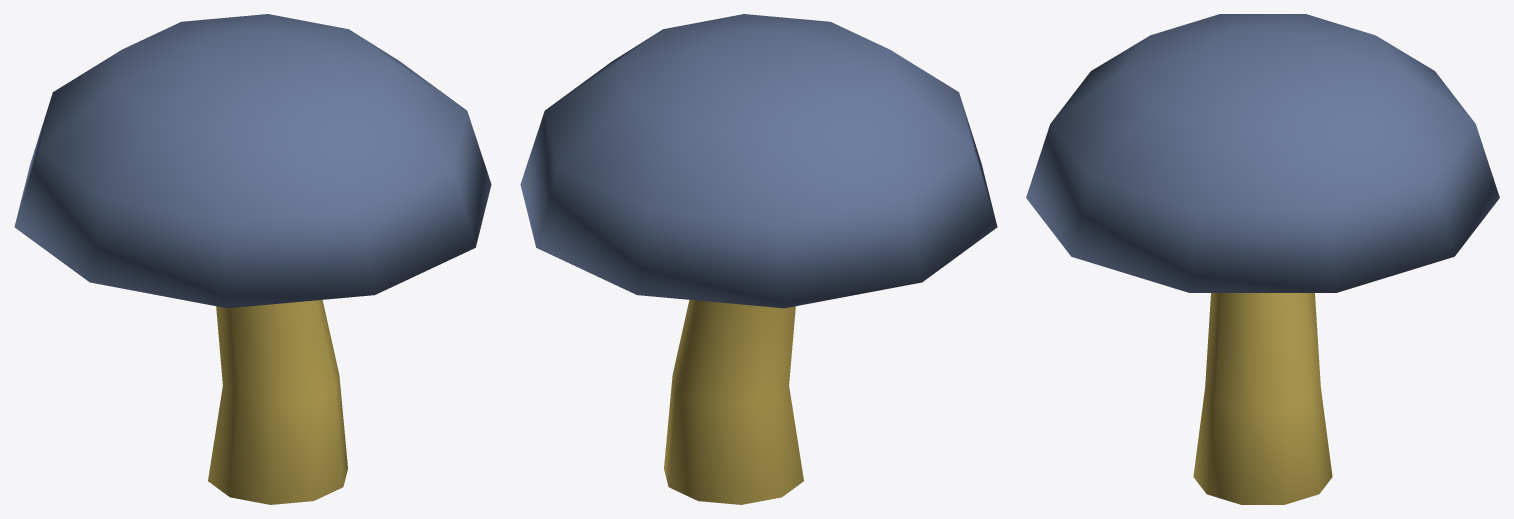
The model's file is Mushroom_Blue_2.fbx.
The picture shows the model from 3 angles, left to right: view 1: azimuth 30°, elevation 25°; view 2: azimuth 150°, elevation 25°; view 3: azimuth 270°, elevation 25°; orthographic projection. The views are drawn at different scales.
Parts seen in each view (by area): view 1: Cylinder.524, Cylinder.523; view 2: Cylinder.524, Cylinder.523; view 3: Cylinder.524, Cylinder.523.
Part boxes in pixels (bbox=[...]): Cylinder.524: bbox=[14, 14, 491, 308]; Cylinder.523: bbox=[208, 300, 347, 504]; Cylinder.524: bbox=[520, 14, 997, 308]; Cylinder.523: bbox=[664, 300, 803, 504]; Cylinder.524: bbox=[1026, 14, 1499, 292]; Cylinder.523: bbox=[1193, 293, 1332, 504].
Size of the model in its own units: 72.61 by 73.76 by 76.34.
